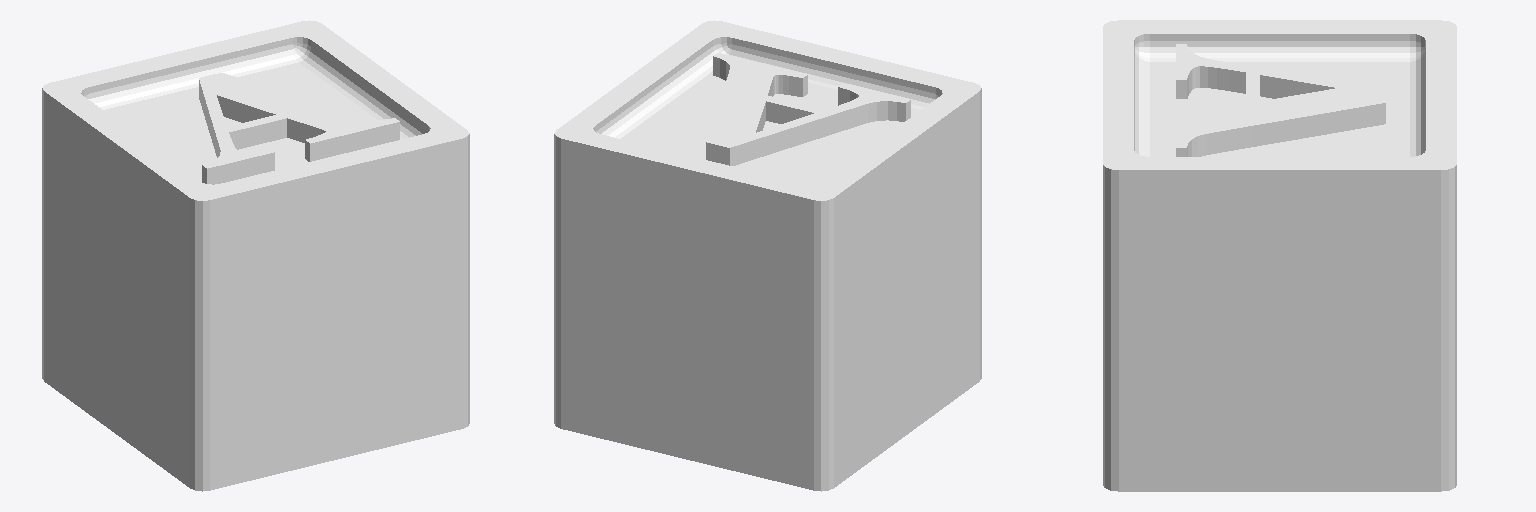
URDF robot description (BlockA):
<robot
  name="BlockA">
  <link
    name="block_description">
    <inertial>
      <origin
        xyz="0.022513 0.022479 0.021743"
        rpy="0 0 0" />
      <mass
        value="0.043027" />
      <inertia
        ixx="1.41188162923529E-05"
        ixy="-2.48714811617225E-09"
        ixz="1.20388854164856E-08"
        iyy="1.41109902182813E-05"
        iyz="1.99007361056528E-08"
        izz="1.4608435930638E-05" />
    </inertial>
    <visual>
      <origin
        xyz="0 0 0"
        rpy="1.5707963267949 0 0" />
      <geometry>
        <mesh
          filename="package://block_description/meshes/block_description.STL" />
      </geometry>
      <material
        name="">
        <color
          rgba="1 1 1 1" />
      </material>
    </visual>
    <collision>
      <origin
        xyz="0 0 0"
        rpy="1.5707963267949 0 0" />
      <geometry>
        <mesh
          filename="package://block_description/meshes/block_description.STL" />
      </geometry>
    </collision>
  </link>
</robot>

--- What the picture shows (computed from the rendered views, not written in the file) ---
Views: 3 orthographic renders of the robot side by side, from view 1: azimuth 30°, elevation 25°; view 2: azimuth 150°, elevation 25°; view 3: azimuth 270°, elevation 25°.
Model BlockA with 1 links and 0 joints (none), rooted at block_description, posed all joints at 0.
Links seen in each view (by area): view 1: block_description; view 2: block_description; view 3: block_description.
Boxes of the visible links, box(x1,y1,x2,y2) form: block_description: box(42, 20, 469, 491); block_description: box(554, 20, 981, 491); block_description: box(1103, 20, 1456, 491).
Size in the robot's own frame: 0.045 by 0.045 by 0.045 metres.
1 mesh visuals loaded from 1 distinct referenced files (1 binary STL).